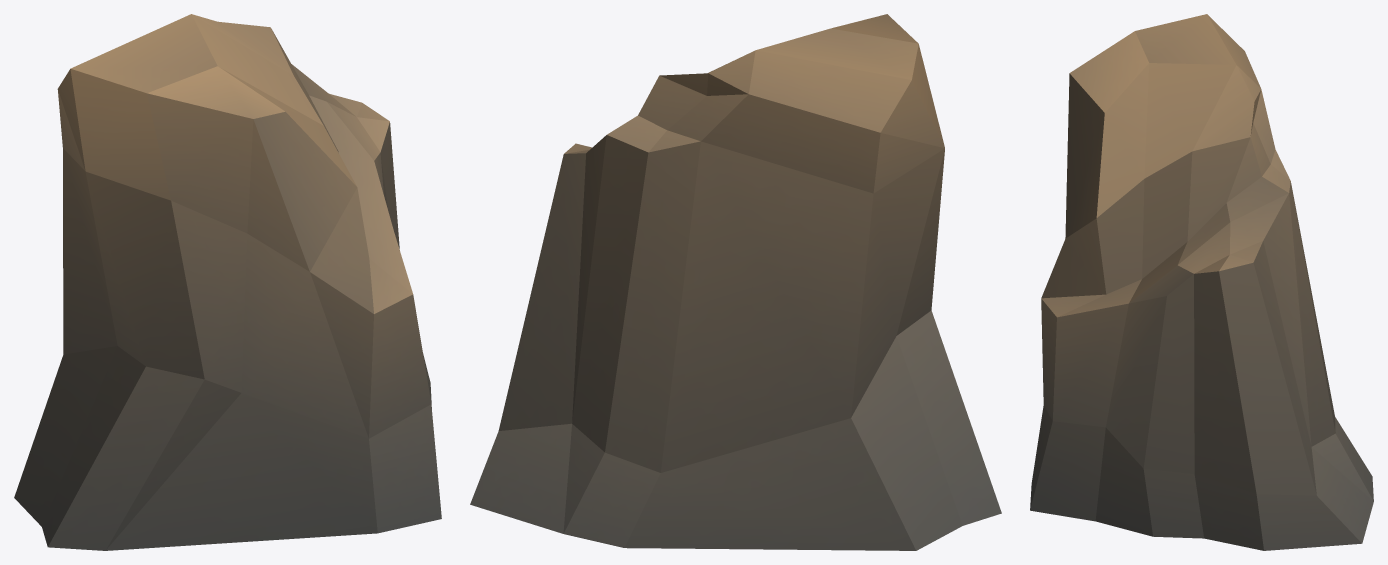
Rendered from RockPlainBrown3.fbx.
3 views of the same model, side by side, from view 1: azimuth 30°, elevation 25°; view 2: azimuth 150°, elevation 25°; view 3: azimuth 270°, elevation 25° (orthographic). The views are drawn at different scales.
Visible parts, largest first — view 1: RockPlainBrown3; view 2: RockPlainBrown3; view 3: RockPlainBrown3.
Part boxes in pixels (<box>): RockPlainBrown3: <box>14,14,441,550</box>; RockPlainBrown3: <box>470,14,1001,550</box>; RockPlainBrown3: <box>1030,14,1373,550</box>.
Bounding box in the file's own units: 91 × 92.7 × 74.07.
